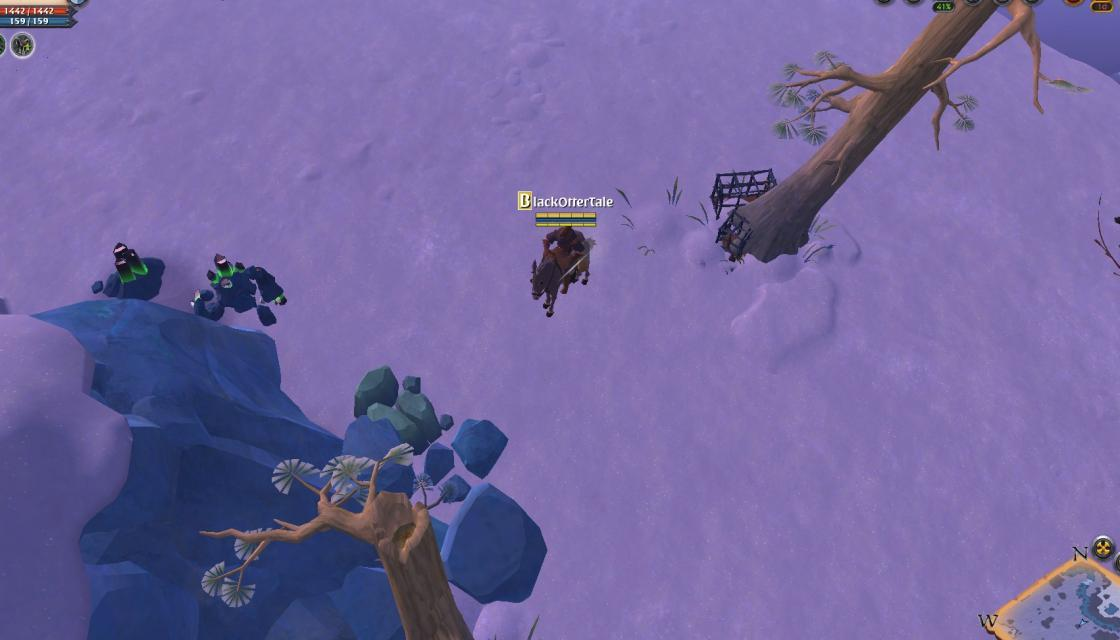sandstone: (348, 362, 456, 455)
tinore: (104, 238, 168, 305)
